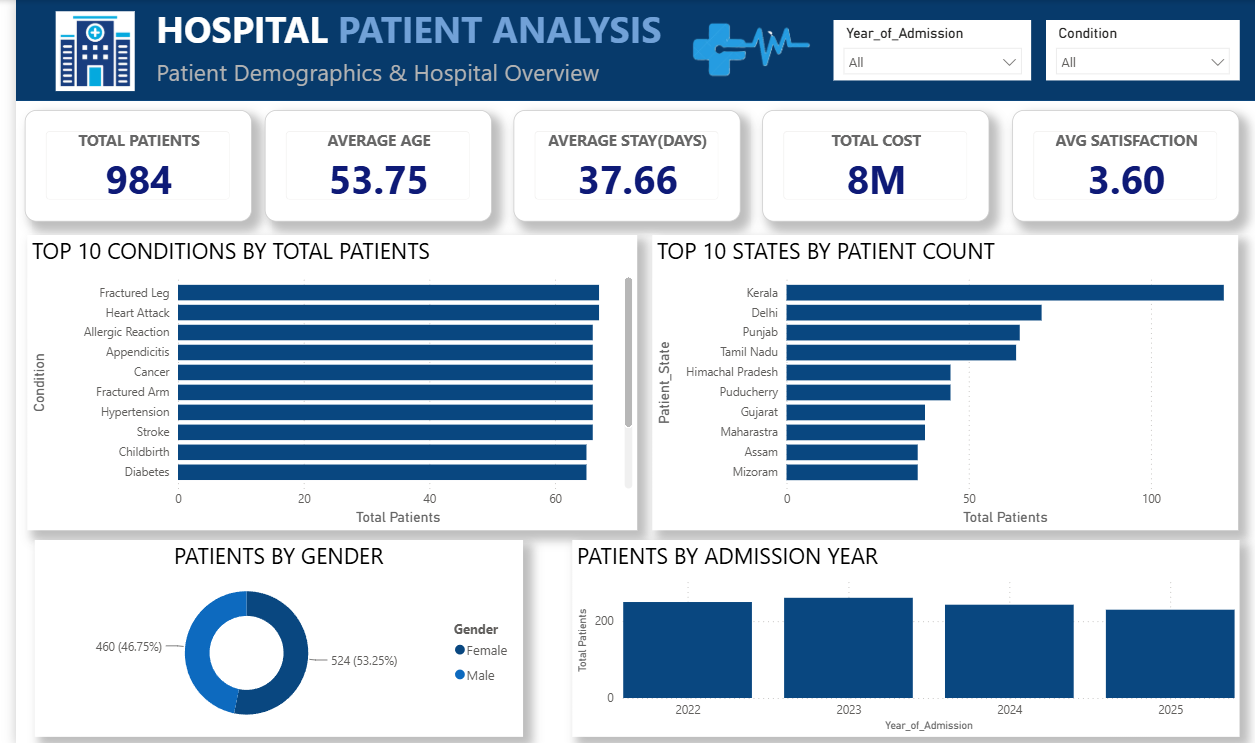

Layout of this report page (visuals, bound fields, positions):
{"tool":"powerbi","page":{"name":"Hospital Overview","canvas":[1280,770],"ordinal":0},"visuals":[{"type":"shape","box":[0,0,1280.3,104.3],"z":0},{"type":"textbox","box":[0,0,1280.3,104.3],"z":1000},{"type":"image","box":[19.2,11,124.9,82.3],"z":2000},{"type":"slicer","fields":{"Values":["hospital_patient_data_cleaned.Year_of_Admission"]},"box":[843.6,20.9,204.2,62.6],"z":3000},{"type":"slicer","fields":{"Values":["hospital_patient_data_cleaned.Condition"]},"box":[1062.7,20.9,199.7,62.6],"z":4000},{"type":"cardVisual","fields":{"Data":["Calculation.Total Patients"]},"box":[9.6,113.9,234.6,115.3],"z":5000},{"type":"cardVisual","fields":{"Data":["Calculation.Average Age"]},"box":[256.6,113.9,234.6,115.3],"z":6000},{"type":"cardVisual","fields":{"Data":["Calculation.Average Length of Stay"]},"box":[513.2,113.9,234.6,115.3],"z":7000},{"type":"cardVisual","fields":{"Data":["Calculation.Total Treatment Cost"]},"box":[769.8,113.9,234.6,115.3],"z":8000},{"type":"cardVisual","fields":{"Data":["Calculation.Average Satisfaction"]},"box":[1027.8,113.9,234.6,115.3],"z":9000},{"type":"clusteredBarChart","title":"TOP 10 CONDITIONS BY TOTAL PATIENTS","fields":{"Category":["hospital_patient_data_cleaned.Condition"],"Y":["Calculation.Total Patients"]},"box":[11,242.9,629.8,304.6],"z":10000},{"type":"donutChart","title":"PATIENTS BY GENDER","fields":{"Category":["hospital_patient_data_cleaned.Gender"],"Y":["Calculation.Total Patients"]},"box":[19.2,557.1,503.6,203.1],"z":11000},{"type":"clusteredBarChart","title":"TOP 10 STATES BY PATIENT COUNT","fields":{"Category":["hospital_patient_data_cleaned.Patient_State"],"Y":["Calculation.Total Patients"]},"box":[657.3,242.9,605.1,304.6],"z":12000},{"type":"clusteredColumnChart","title":"PATIENTS BY ADMISSION YEAR","fields":{"Y":["Calculation.Total Patients"],"Category":["hospital_patient_data_cleaned.Year_of_Admission"]},"box":[573.6,557.1,688.9,203.1],"z":13000},{"type":"image","box":[688.6,13.4,138.6,77.5],"z":14000}]}

Visuals, with their boxes in screenshot pixels (x1, y1, x2, y2), scaled from the page's 1280x770 canvas onto the 1255x743 screenshot:
shape: box(0, 0, 1254, 101)
textbox: box(0, 0, 1254, 101)
image: box(19, 11, 141, 90)
slicer - hospital_patient_data_cleaned.Year_of_Admission: box(827, 20, 1027, 81)
slicer - hospital_patient_data_cleaned.Condition: box(1042, 20, 1238, 81)
cardVisual - Calculation.Total Patients: box(9, 110, 239, 221)
cardVisual - Calculation.Average Age: box(252, 110, 482, 221)
cardVisual - Calculation.Average Length of Stay: box(503, 110, 733, 221)
cardVisual - Calculation.Total Treatment Cost: box(755, 110, 985, 221)
cardVisual - Calculation.Average Satisfaction: box(1008, 110, 1238, 221)
"TOP 10 CONDITIONS BY TOTAL PATIENTS" clusteredBarChart: box(11, 234, 628, 528)
"PATIENTS BY GENDER" donutChart: box(19, 538, 513, 734)
"TOP 10 STATES BY PATIENT COUNT" clusteredBarChart: box(644, 234, 1238, 528)
"PATIENTS BY ADMISSION YEAR" clusteredColumnChart: box(562, 538, 1238, 734)
image: box(675, 13, 811, 88)
